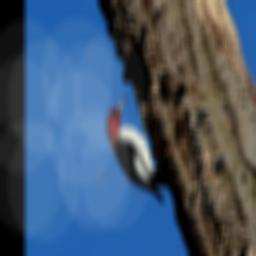Woodpecker: (98, 88, 178, 211)
